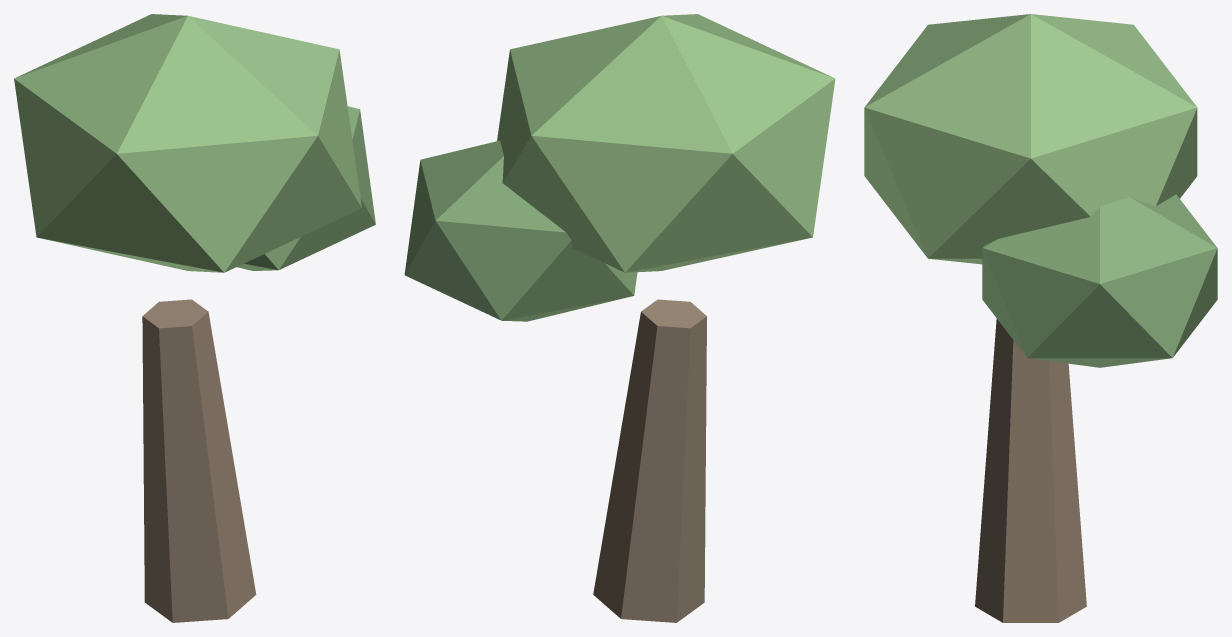
File: tree_hawthorn.glb
The picture shows the model from 3 angles, left to right: view 1: azimuth 30°, elevation 25°; view 2: azimuth 150°, elevation 25°; view 3: azimuth 270°, elevation 25°; orthographic projection.
Parts seen in each view (by area): view 1: tree_hawthorn; view 2: tree_hawthorn; view 3: tree_hawthorn.
Boxes of the visible parts, left/top/right/bottom form: tree_hawthorn: left=14, top=14, right=375, bottom=622; tree_hawthorn: left=404, top=14, right=835, bottom=622; tree_hawthorn: left=864, top=14, right=1217, bottom=622.
Bounding box in the file's own units: 0.1797 × 0.2828 × 0.1533.
